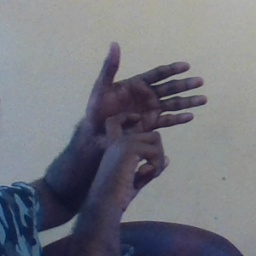R: (79, 39, 212, 195)
